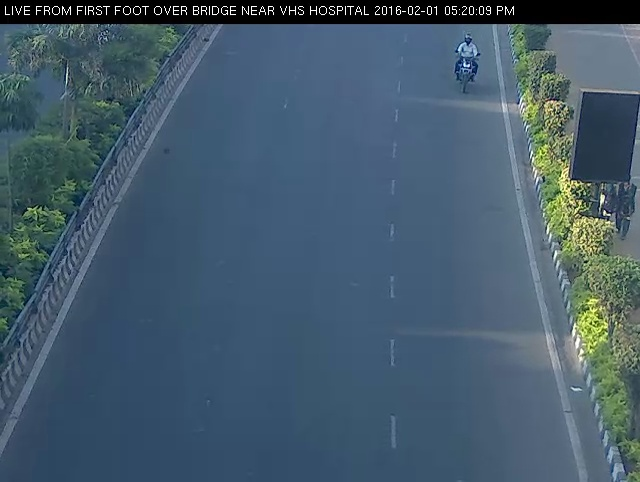Person: (446, 29, 492, 106)
